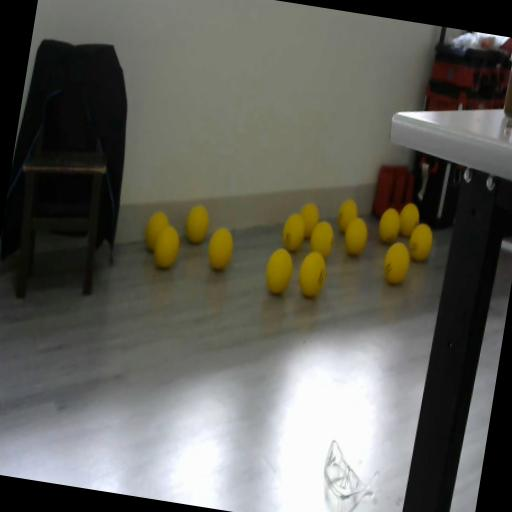FUEL: (261, 243, 296, 297), (295, 248, 329, 300), (379, 238, 412, 287), (204, 222, 236, 272), (182, 202, 212, 245), (142, 208, 171, 252), (307, 218, 336, 260), (342, 216, 370, 258), (406, 221, 434, 263), (374, 204, 402, 246), (395, 200, 422, 240), (295, 200, 321, 240)
